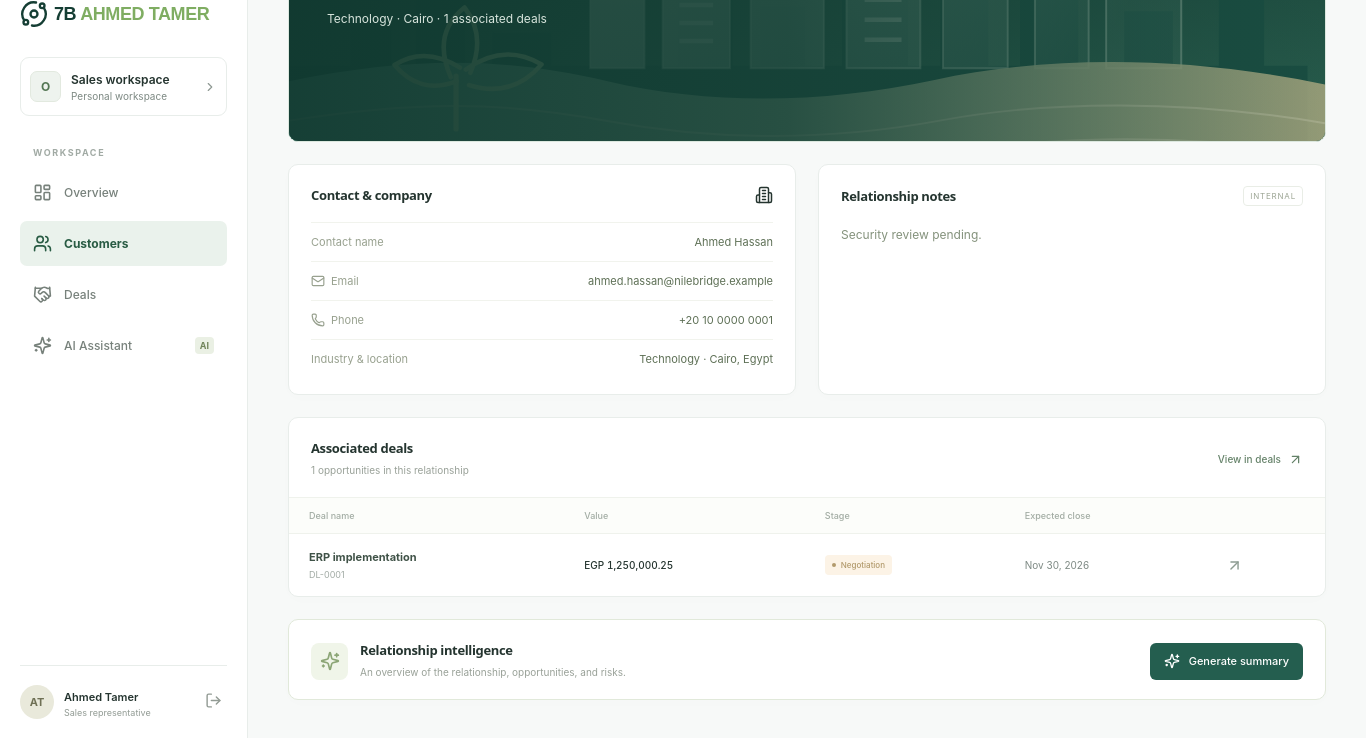
Scenario: workspace integration › shows missing AI configuration honestly without a fabricated summary
(page scrolled)
Click the button "Generate summary" at (1226,661), box [1150,643,1303,680]
(page scrolled)
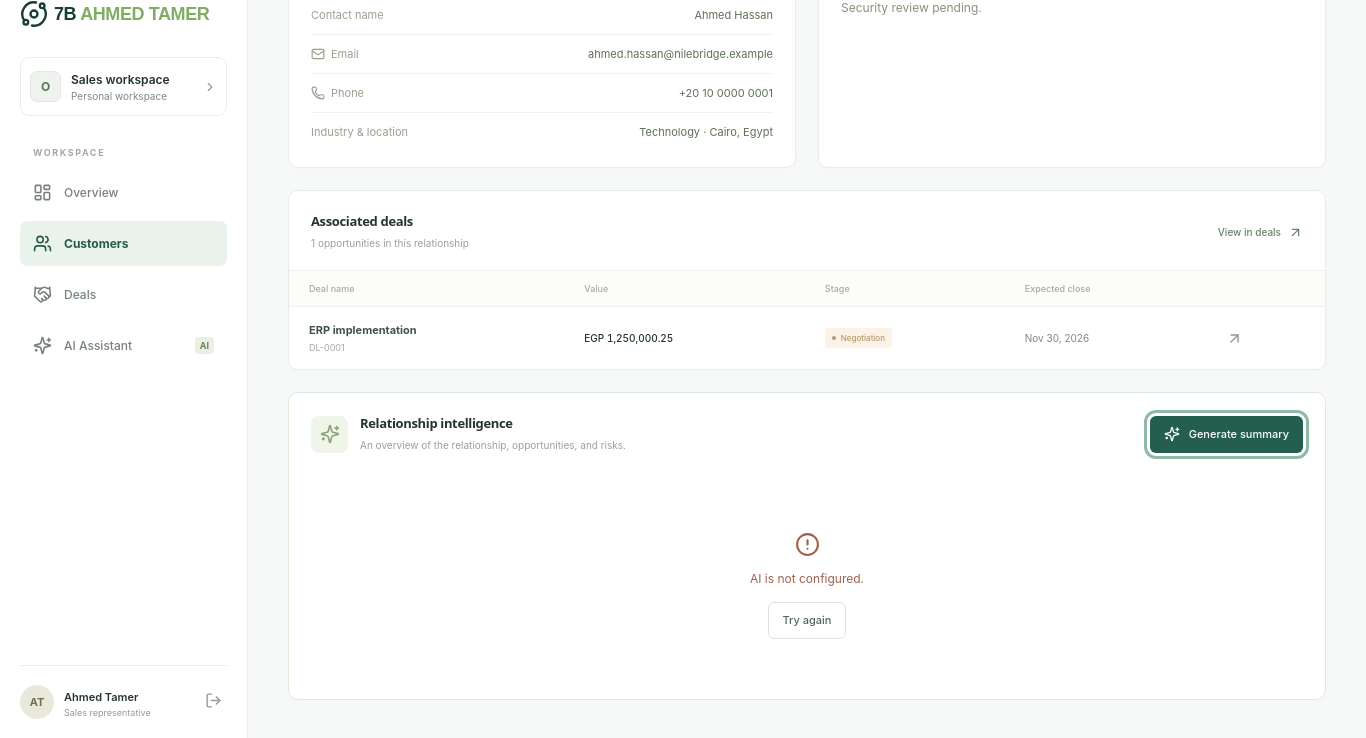
expect the message shows "AI is not configured": met, box [750,571,864,586]
